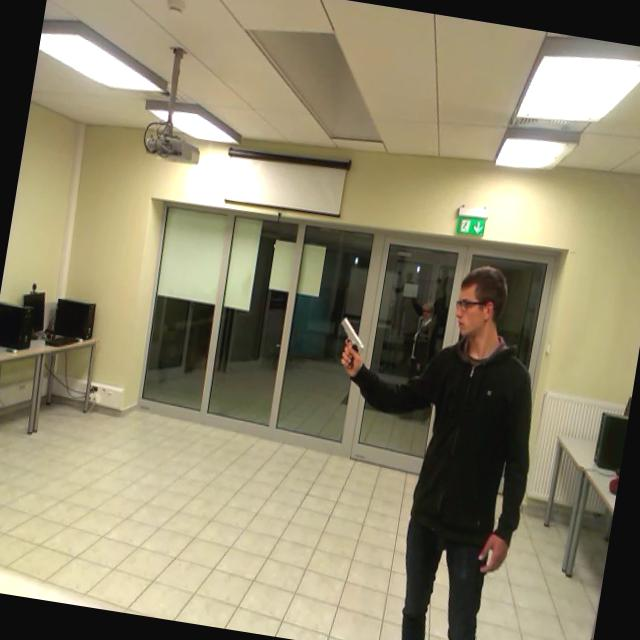handgun: (325, 310, 379, 378)
